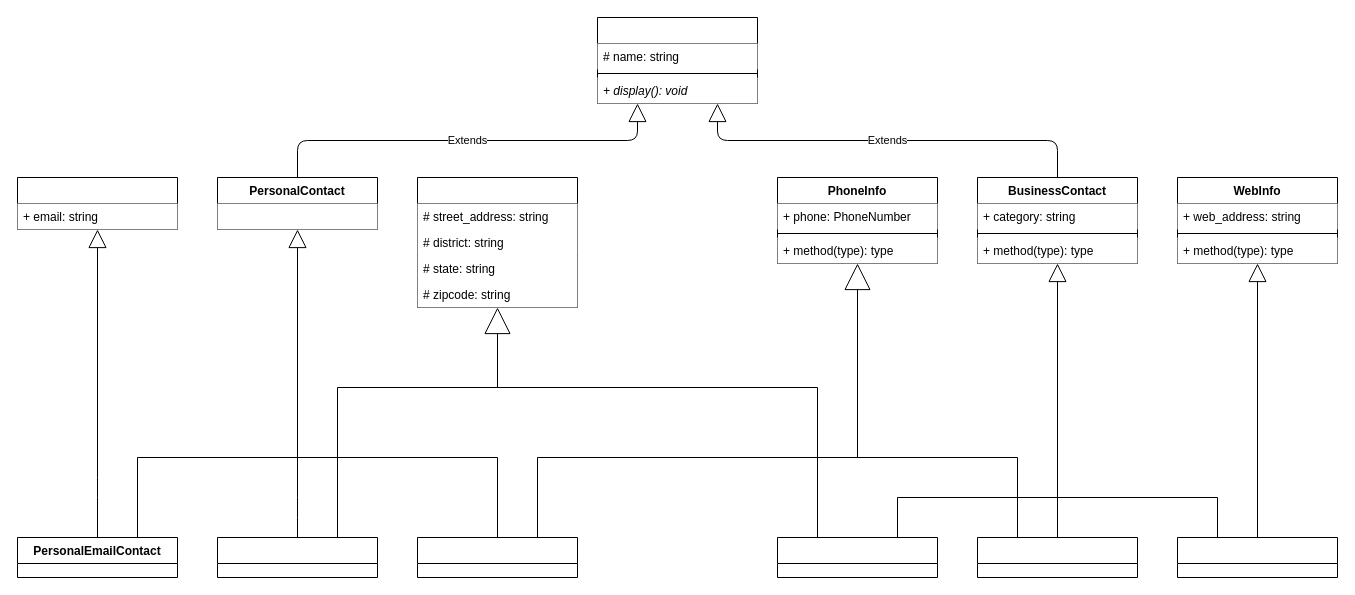
Image size: 1355x595. Some labels were removed from this diagram. Each missing label, with the box of its shape:
+ gender: string: (217, 203, 377, 229)
AddressInfo: (416, 176, 578, 308)
BusinessAddressContact: (776, 536, 938, 578)
BusinessPhoneContact: (976, 536, 1138, 578)
BusinessWebContact: (1176, 536, 1338, 578)
Contact: (596, 16, 758, 104)
EmailInfo: (16, 176, 178, 230)
PersonalAddressContact: (216, 536, 378, 578)
PersonalPhoneContact: (416, 536, 578, 578)
